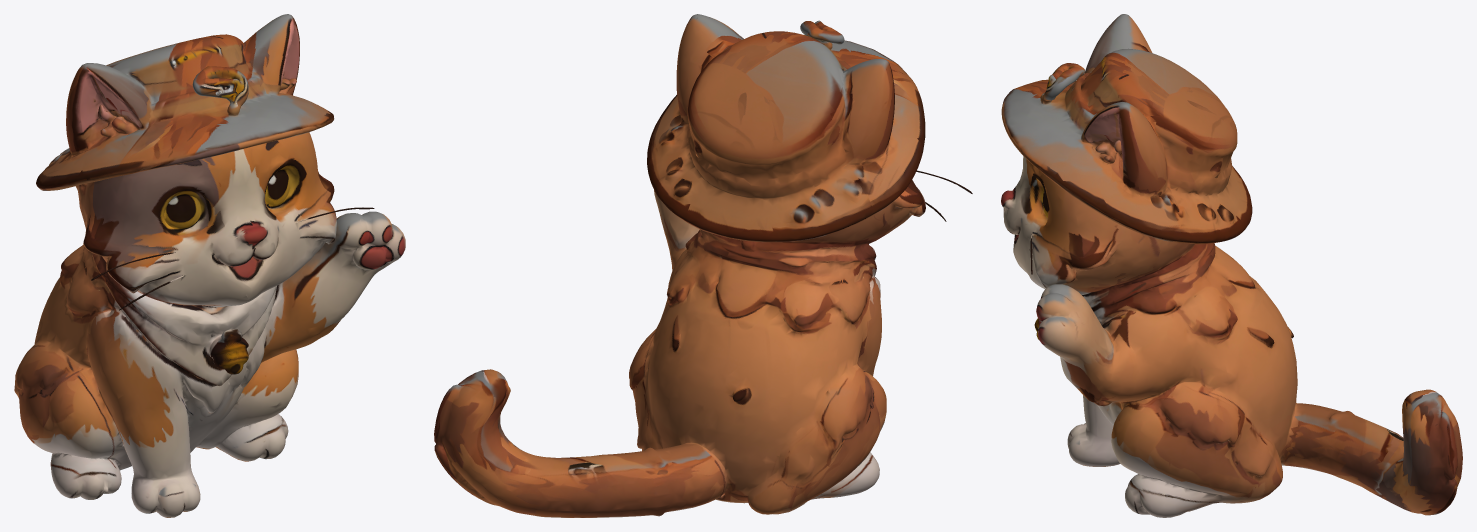
File: mike_companion.glb
The picture shows the model from 3 angles, left to right: view 1: azimuth 30°, elevation 25°; view 2: azimuth 150°, elevation 25°; view 3: azimuth 270°, elevation 25°; orthographic projection. The views are drawn at different scales.
Parts seen in each view (by area): view 1: tripo_node_99d89363; view 2: tripo_node_99d89363; view 3: tripo_node_99d89363.
Part boxes in pixels (bbox=[...]): tripo_node_99d89363: bbox=[14, 14, 405, 517]; tripo_node_99d89363: bbox=[434, 14, 972, 517]; tripo_node_99d89363: bbox=[1001, 14, 1462, 517].
Bounding box in the file's own units: 0.3425 × 0.42 × 0.4219.
Materials: 1 (1 with a texture image).
